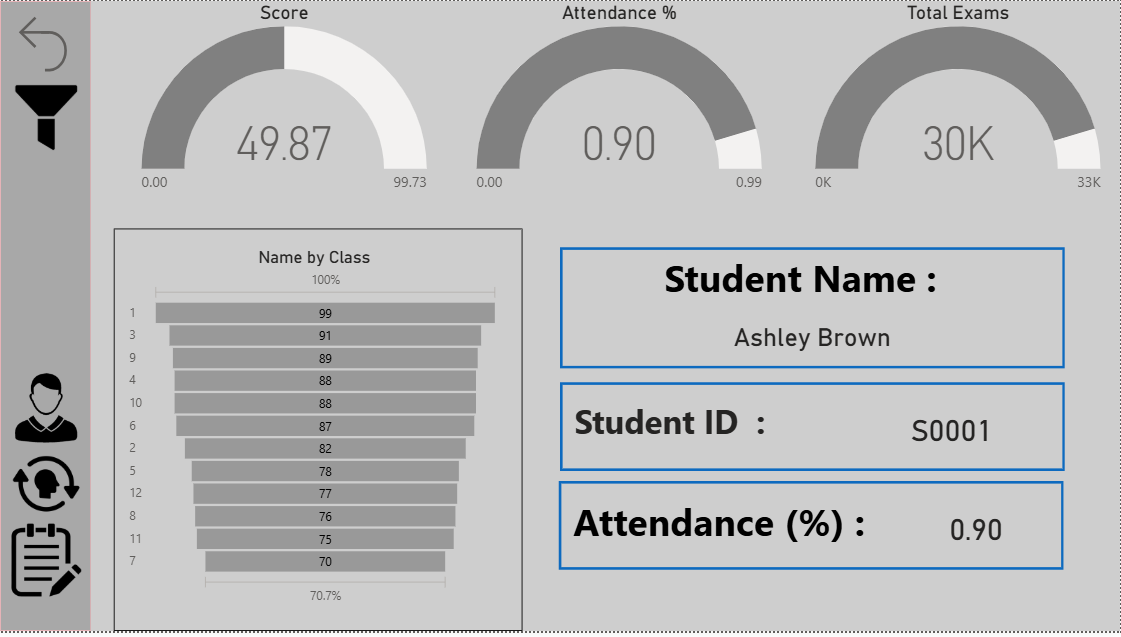

This screenshot's page, from the dashboard's own definition file:
{"tool":"powerbi","page":{"name":"Student Profile","canvas":[1280,720],"ordinal":1},"visuals":[{"type":"shape","box":[640,280.9,577.1,138.6],"z":0},{"type":"shape","box":[130,260,467.1,460],"z":1000},{"type":"funnel","fields":{"Category":["Students.Class"],"Y":["Students.Name"]},"box":[142.9,281.4,432.9,412.9],"z":2000},{"type":"shape","box":[0,0,104.3,720],"z":3000},{"type":"gauge","title":"Score","fields":{"Y":["Measures Table.Avg Score"]},"box":[130,0,390,228.6],"z":4000},{"type":"gauge","title":"Attendance %","fields":{"Y":["Measures Table.Attendance %"],"MaxValue":["Measures Table.Target Attendance"]},"box":[520,0,375.7,228.6],"z":5000},{"type":"gauge","title":"Total Exams ","fields":{"Y":["Measures Table.Total Exams"],"MaxValue":["Measures Table.Target exam"]},"box":[910,0,370,228.6],"z":6000},{"type":"textbox","box":[754.3,280.9,390,78.6],"z":7000},{"type":"card","fields":{"Values":["Students.Name"]},"box":[764.3,350.9,328.6,62.9],"z":8000},{"type":"shape","box":[638.9,548.1,577.1,101.4],"z":9000},{"type":"textbox","box":[650.3,559.6,357.1,82.9],"z":10000},{"type":"card","fields":{"Values":["Measures Table.Attendance %"]},"box":[1021.7,559.6,188.6,82.9],"z":10001},{"type":"shape","box":[640,435.6,577.1,101.4],"z":10002},{"type":"textbox","box":[651.4,449.9,277.1,78.6],"z":10003},{"type":"card","fields":{"Values":["Scores.StudentID"]},"box":[970,447,235.7,81.4],"z":10004}]}

Visuals, with their boxes on the page's 1280x720 design canvas (x1, y1, x2, y2). These are canvas units, not pixel positions in the 1121x637 screenshot, which may show the page scaled, cropped or inside an application window:
shape: [640, 281, 1217, 420]
shape: [130, 260, 597, 720]
funnel - Students.Class x Students.Name: [143, 281, 576, 694]
shape: [0, 0, 104, 720]
"Score" gauge: [130, 0, 520, 229]
"Attendance %" gauge: [520, 0, 896, 229]
"Total Exams " gauge: [910, 0, 1280, 229]
textbox: [754, 281, 1144, 360]
card - Students.Name: [764, 351, 1093, 414]
shape: [639, 548, 1216, 650]
textbox: [650, 560, 1007, 642]
card - Measures Table.Attendance %: [1022, 560, 1210, 642]
shape: [640, 436, 1217, 537]
textbox: [651, 450, 928, 528]
card - Scores.StudentID: [970, 447, 1206, 528]
